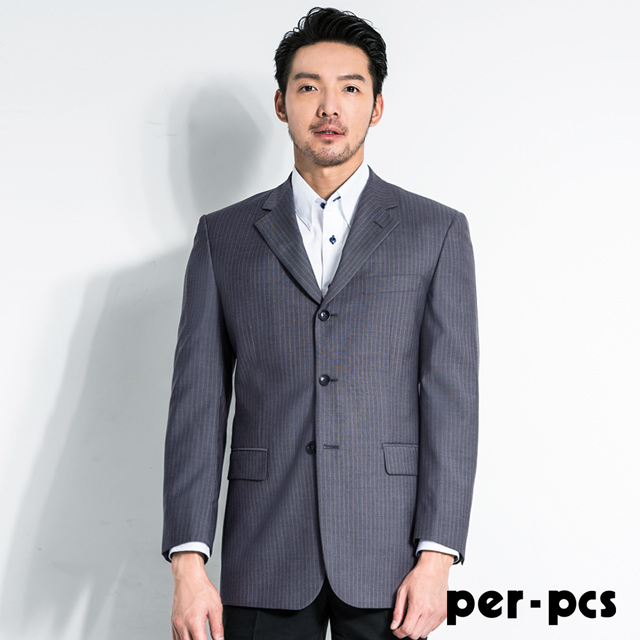F_M_suit jacket: (160, 172, 478, 597)
F_shirt: (290, 162, 368, 289)
